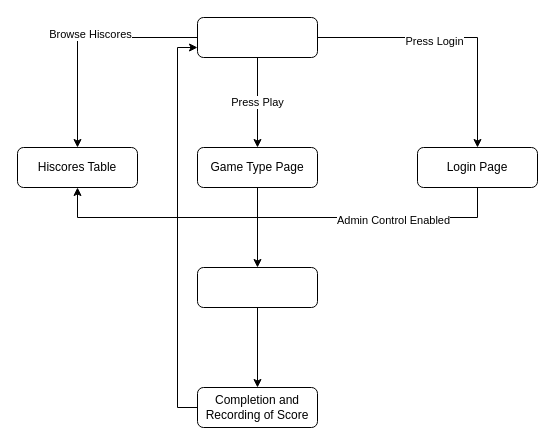
The diagram is 555 pixels wide and 445 high, and some of its shapes have lost their labels. Each missing label, with the centre of its shape:
Front Page: the point at 257,37
Play Through Game: the point at 257,287
